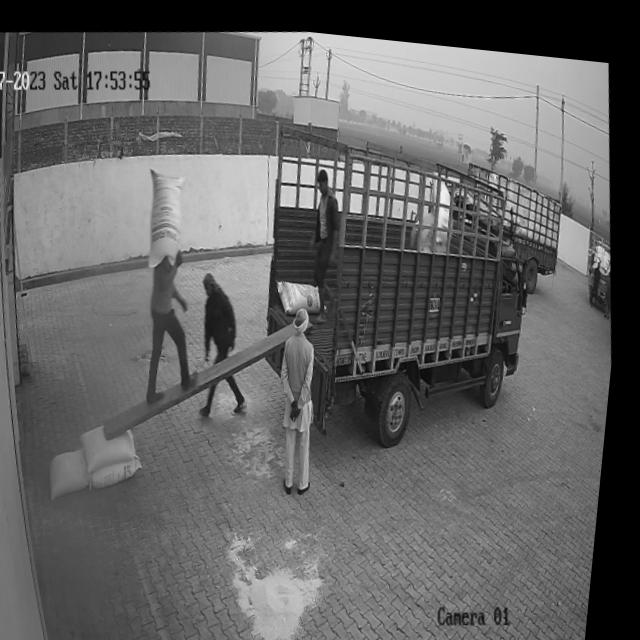sack: (143, 163, 197, 266), (84, 417, 147, 473), (55, 442, 102, 499), (97, 447, 153, 489), (278, 267, 328, 313)
